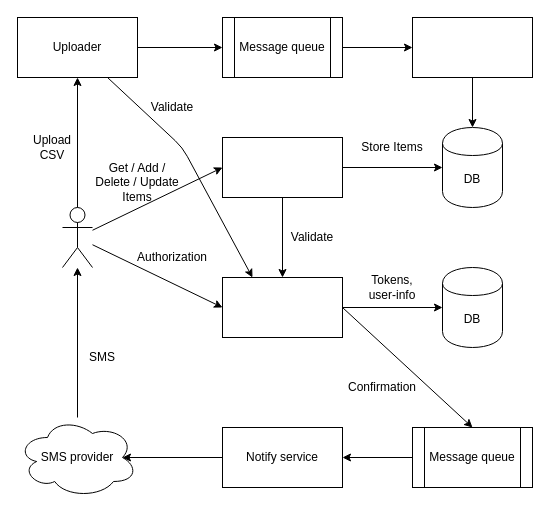
This 550x515 diagram has some shape labels left out. Here are the shapes that lost their labels. From the top down, the centre of each, then its label:
At (x=472, y=47): "Importer".
At (x=282, y=167): "Item-storage service".
At (x=282, y=307): "Auth service".
